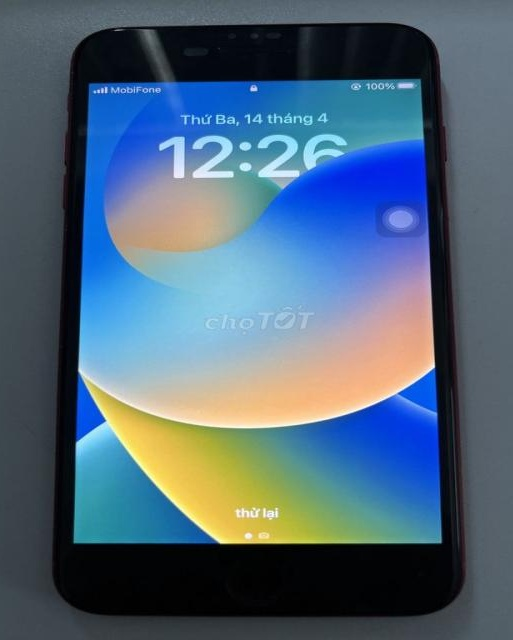scratch: (99, 23, 349, 59)
